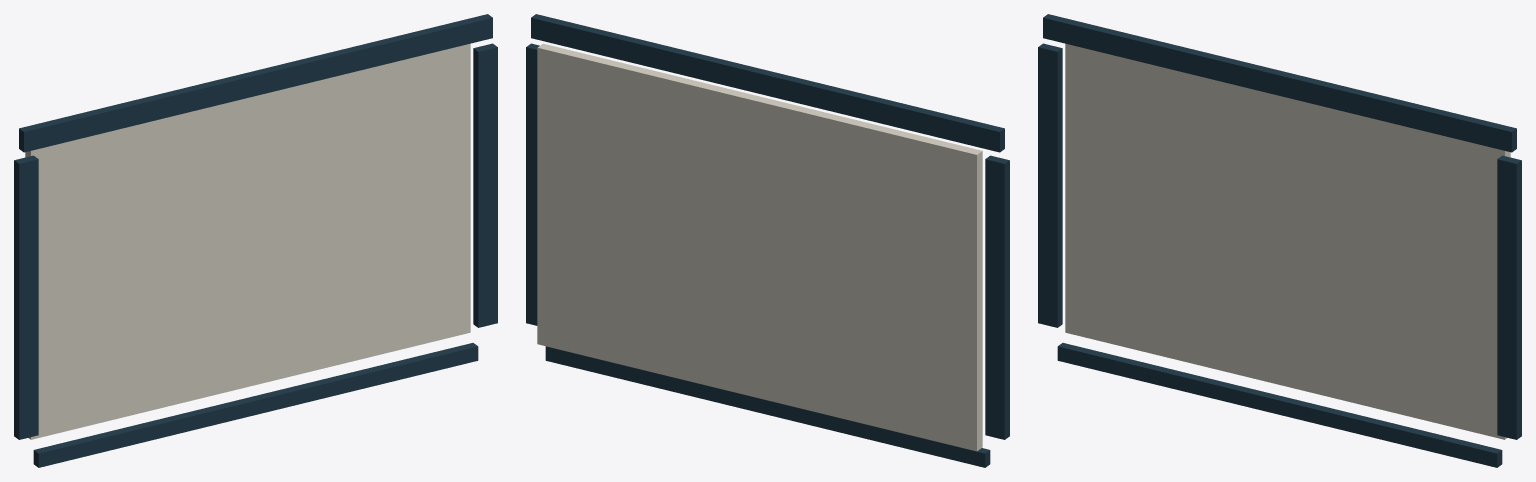
3 renders of one model, left to right at view 1: azimuth 30°, elevation 25°; view 2: azimuth 150°, elevation 25°; view 3: azimuth 330°, elevation 25°, orthographic.
Visible parts, largest first — view 1: information-back, live-top-visor, live-bottom-strip, live-right-rail, live-left-rail; view 2: information-back, live-top-visor, live-left-rail, live-bottom-strip, live-right-rail; view 3: information-back, live-top-visor, live-bottom-strip, live-left-rail, live-right-rail.
Boxes of the visible parts, x1,y1,x2,y2 form: information-back: (25,43,470,439); live-top-visor: (19,14,492,152); live-bottom-strip: (33,343,478,467); live-right-rail: (473,43,497,327); live-left-rail: (14,155,38,439); information-back: (537,43,982,451); live-top-visor: (531,14,1004,152); live-left-rail: (985,155,1009,439); live-bottom-strip: (545,346,990,467); live-right-rail: (526,43,539,325); information-back: (1065,43,1510,439); live-top-visor: (1043,14,1516,152); live-bottom-strip: (1057,343,1502,467); live-left-rail: (1038,43,1062,327); live-right-rail: (1497,155,1521,439).
Size of the model in its own units: 0.98 by 0.664 by 0.047.
